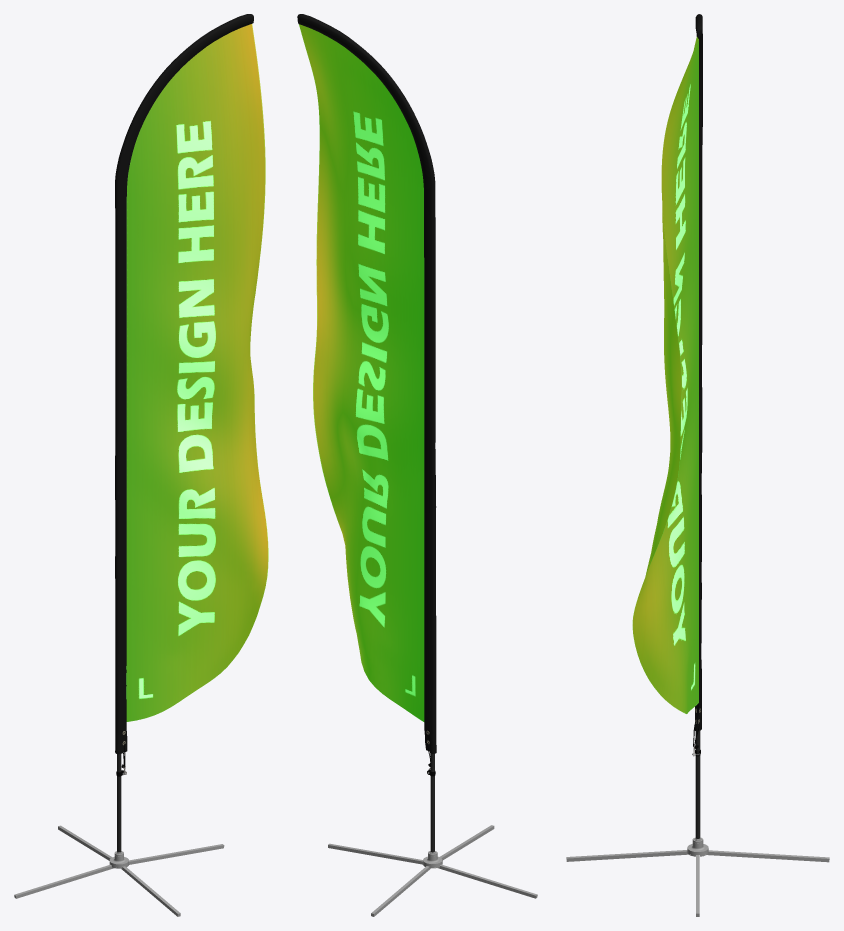
The picture shows the model from 3 angles, left to right: view 1: azimuth 30°, elevation 25°; view 2: azimuth 150°, elevation 25°; view 3: azimuth 270°, elevation 25°; orthographic projection. The views are drawn at different scales.
Parts seen in each view (by area): view 1: L_vat, L_Pocket, Luxury cross base, Pole; view 2: L_vat, L_Pocket, Luxury cross base, Pole; view 3: L_vat, L_Pocket, Luxury cross base, Pole.
Part boxes in pixels (x1=…): L_vat: x1=126, y1=24, x2=268, y2=721; L_Pocket: x1=115, y1=14, x2=253, y2=754; Luxury cross base: x1=14, y1=825, x2=224, y2=916; Pole: x1=116, y1=743, x2=126, y2=853; L_vat: x1=299, y1=24, x2=424, y2=721; L_Pocket: x1=297, y1=14, x2=436, y2=753; Luxury cross base: x1=328, y1=825, x2=537, y2=916; Pole: x1=427, y1=742, x2=435, y2=852; L_vat: x1=632, y1=37, x2=698, y2=713; L_Pocket: x1=694, y1=14, x2=702, y2=733; Luxury cross base: x1=566, y1=837, x2=829, y2=916; Pole: x1=692, y1=722, x2=700, y2=839.
Size of the model in its own units: 1.42 by 4.7 by 1.24.
16 materials, 7 textured.
